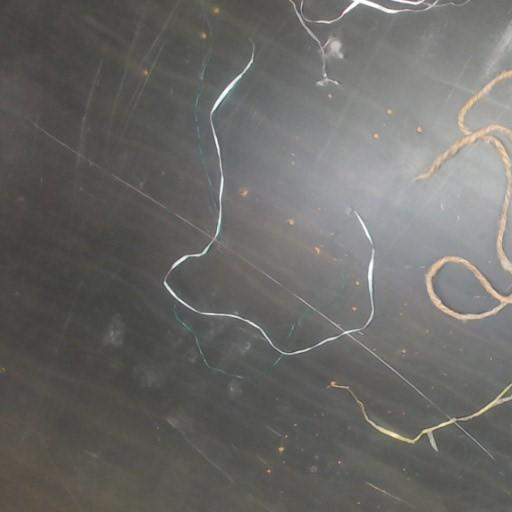conveyor belt: (467, 78, 511, 135)
jute: (416, 69, 511, 274), (425, 256, 511, 321)
thread: (163, 42, 374, 355), (336, 384, 511, 450), (289, 0, 468, 57), (316, 64, 337, 83)
